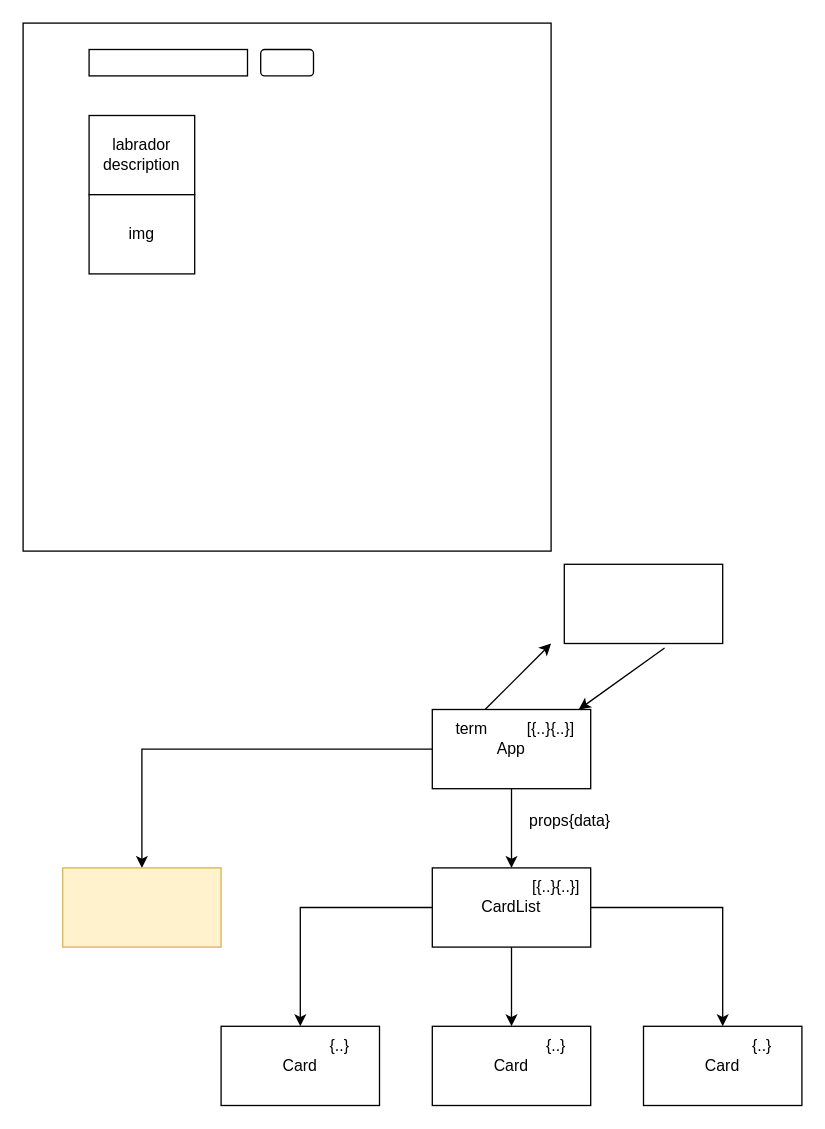
Image size: 825x1129. Some labels were removed from this diagram. The centre of each missing label's shape, as x and y in pixels:
"api http://localhost:8080/breeds?search=term" goes at (x=643, y=603).
"search" goes at (x=168, y=62).
"SearchBar" goes at (x=141, y=907).
"send" goes at (x=286, y=62).
